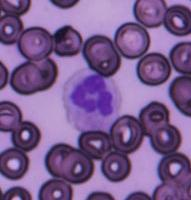N: (64, 68, 122, 132)
